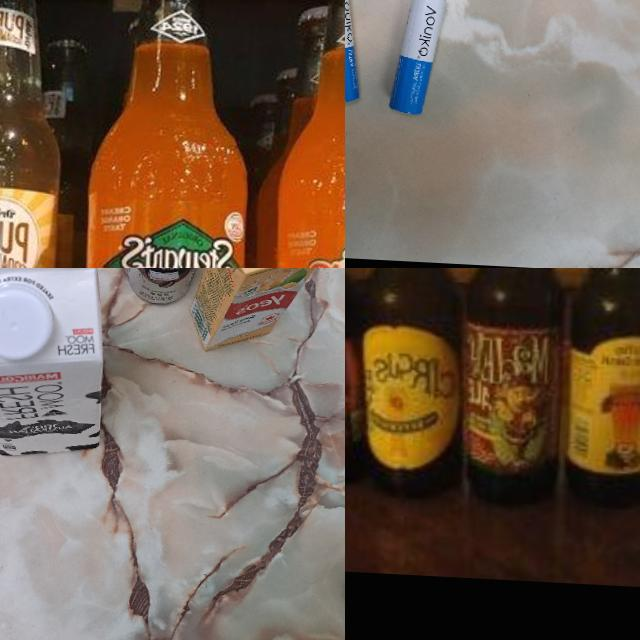bateria: (388, 0, 448, 115), (345, 0, 366, 105)
caixinha: (0, 268, 110, 462), (187, 268, 331, 359)
garrafa de vidro: (81, 0, 263, 268), (349, 268, 474, 501), (455, 268, 576, 503), (270, 0, 345, 268), (0, 0, 73, 268), (559, 268, 640, 507)
lata: (124, 268, 227, 308)
tampa plástica: (0, 282, 56, 363)
